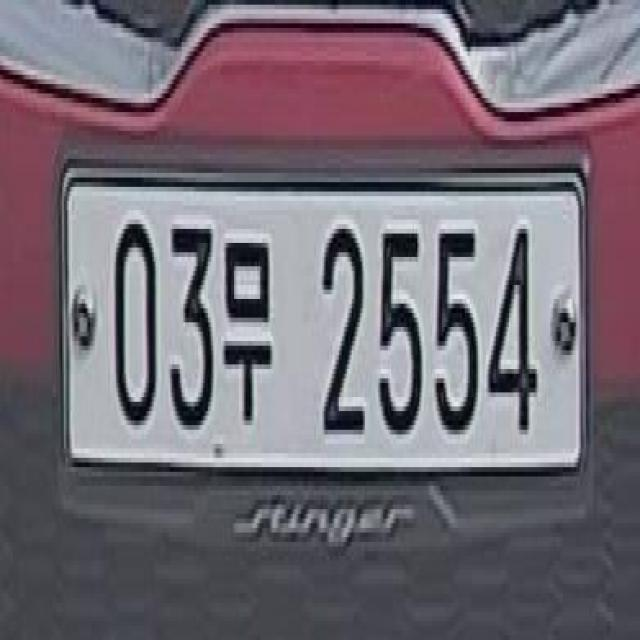illegal_plate: (61, 153, 599, 544)
